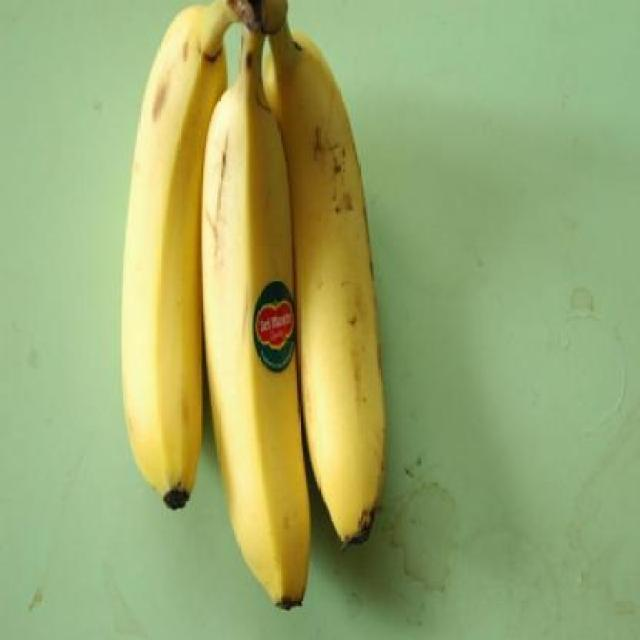Banana: (119, 0, 392, 611)
